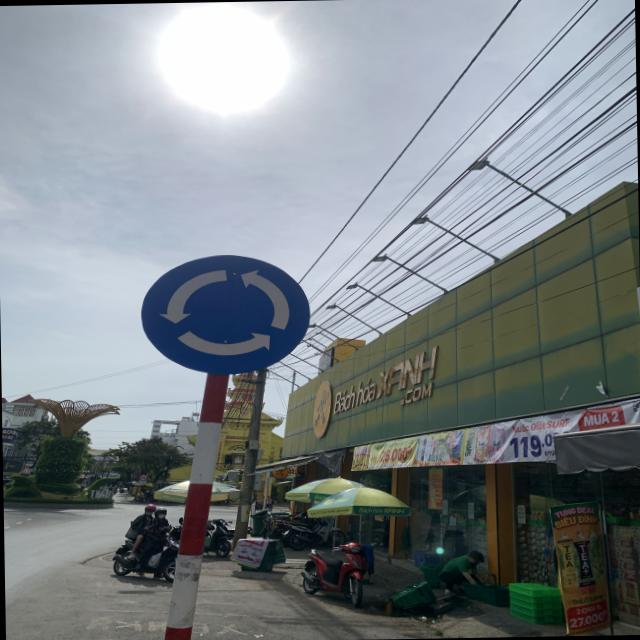Xe_Bus: (142, 254, 312, 376)
